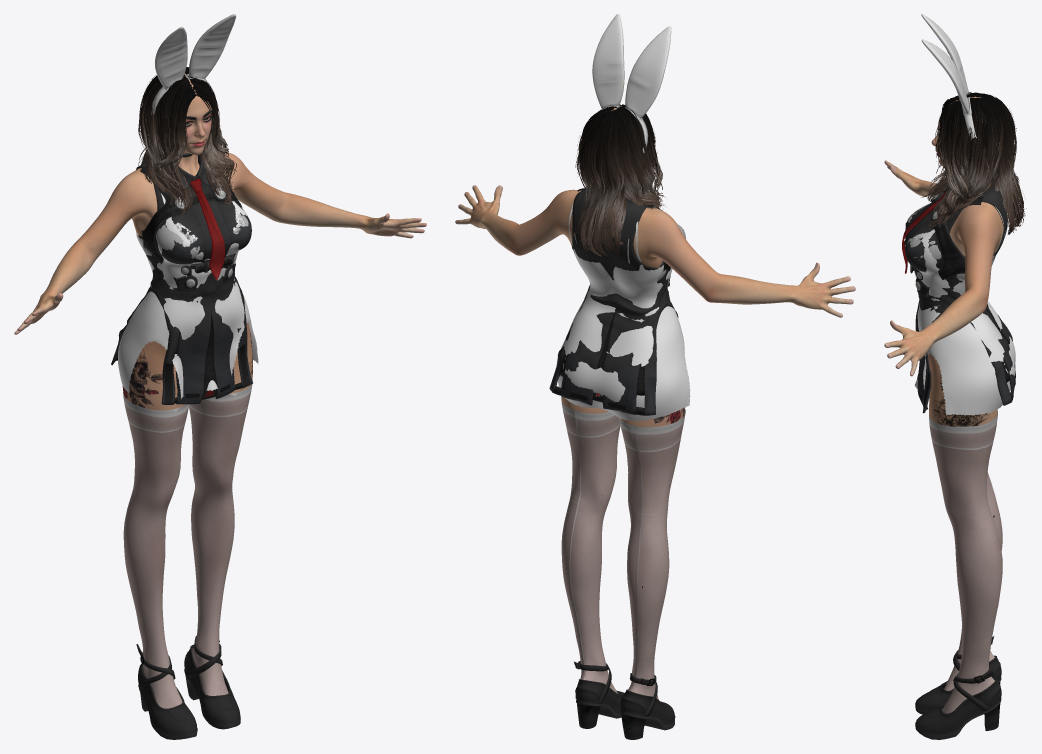
File: The Girl .fbx
The picture shows the model from 3 angles, left to right: view 1: azimuth 30°, elevation 25°; view 2: azimuth 150°, elevation 25°; view 3: azimuth 270°, elevation 25°; orthographic projection. The views are drawn at different scales.
Parts seen in each view (by area): view 1: sock, body, Shirt, hair, Dress, bunny_ear, shirt_part, bra; view 2: sock, body, Dress, Shirt, hair, bunny_ear; view 3: sock, hair, body, Dress, Shirt, bunny_ear, shirt_part, bra.
Boxes of the visible parts, <box> form: sock: <box>123,379,252,739</box>; body: <box>14,73,426,684</box>; Shirt: <box>111,152,252,404</box>; hair: <box>138,67,236,214</box>; Dress: <box>117,193,258,398</box>; bunny_ear: <box>151,14,236,114</box>; shirt_part: <box>155,199,251,264</box>; bra: <box>143,207,248,258</box>; sock: <box>561,398,685,739</box>; body: <box>455,108,855,587</box>; Dress: <box>556,203,690,421</box>; Shirt: <box>549,188,678,415</box>; hair: <box>575,104,665,256</box>; bunny_ear: <box>592,14,671,153</box>; sock: <box>915,398,1002,739</box>; hair: <box>921,92,1026,234</box>; body: <box>884,96,1003,517</box>; Dress: <box>907,202,1015,415</box>; Shirt: <box>902,179,1015,413</box>; bunny_ear: <box>921,14,976,139</box>; shirt_part: <box>904,203,941,271</box>; bra: <box>905,206,1005,279</box>.
Bounding box in the file's own units: 203 × 341 × 63.61.
Materials: 10 (8 with a texture image).
